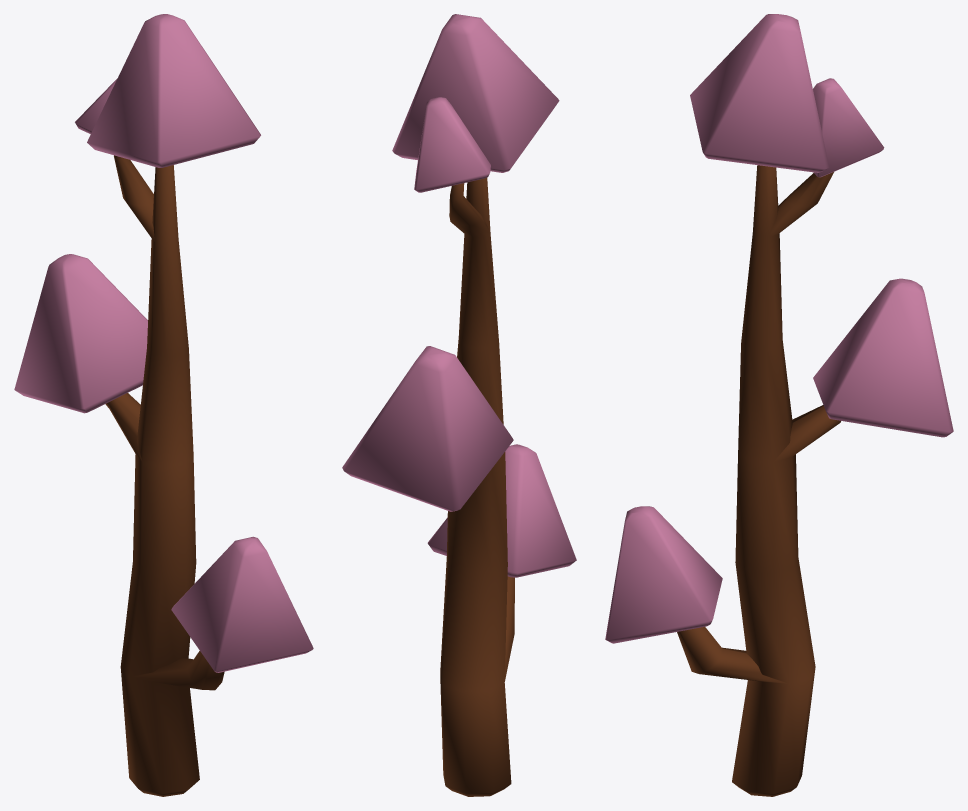
File: tree-47_col.fbx
3 renders of one model, left to right at view 1: azimuth 30°, elevation 25°; view 2: azimuth 150°, elevation 25°; view 3: azimuth 270°, elevation 25°, orthographic.
Parts seen in each view (by area): view 1: tree-47.col; view 2: tree-47.col; view 3: tree-47.col.
Boxes of the visible parts, x1,y1,x2,y2 form: tree-47.col: (14, 14, 313, 796); tree-47.col: (342, 14, 576, 796); tree-47.col: (605, 14, 953, 796).
Bounding box in the file's own units: 0.1992 × 1 × 0.4107.
1 material, 1 textured.
